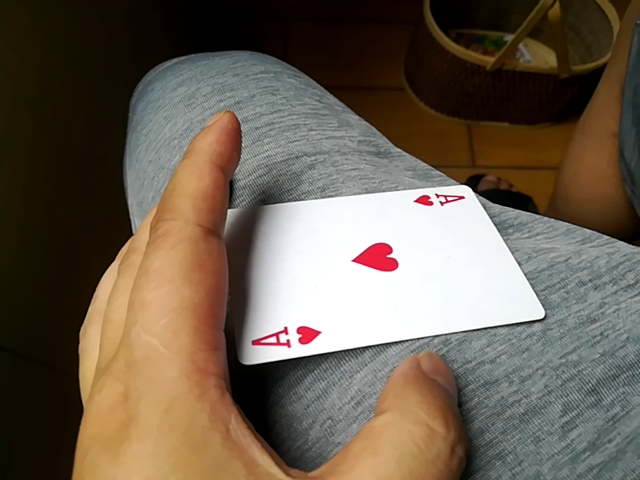hx a: (236, 184, 547, 364)
